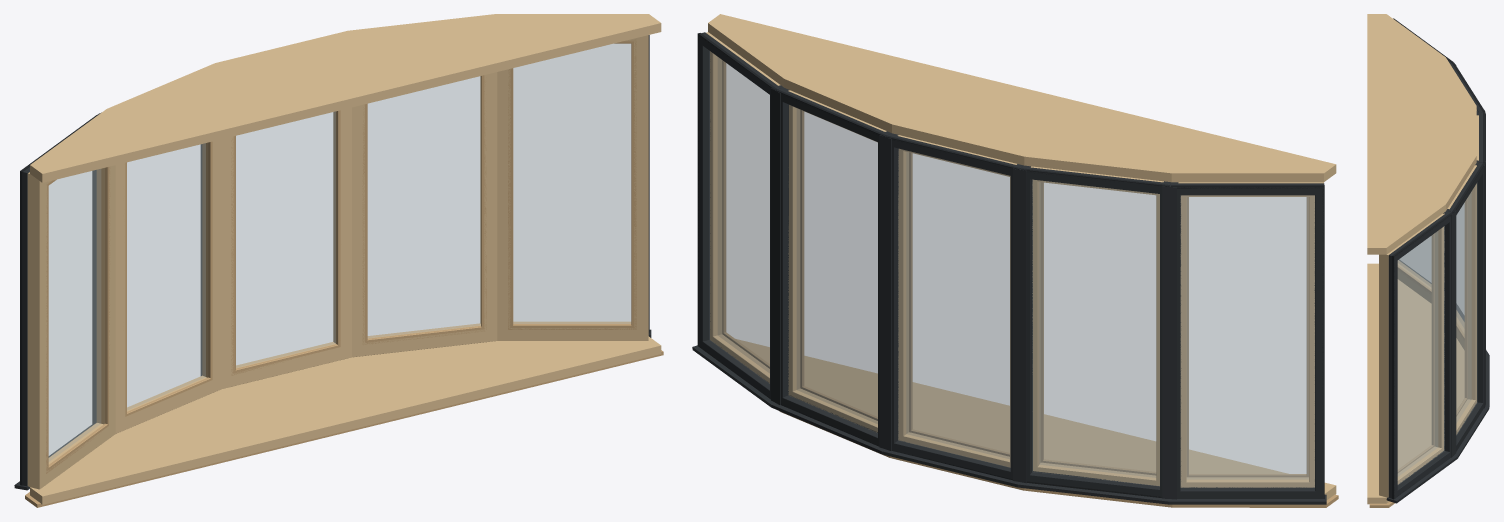
Rendered from combination-bow.glb.
3 renders of one model, left to right at view 1: azimuth 30°, elevation 25°; view 2: azimuth 150°, elevation 25°; view 3: azimuth 270°, elevation 25°, orthographic. The views are drawn at different scales.
Parts seen in each view (by area): view 1: head_board, seat_board, panel_5_glass, panel_4_glass, panel_3_glass, panel_2_glass, panel_1_glass, panel_1_liner_int, panel_5_liner_int, panel_4_liner_int, panel_3_liner_int, panel_2_liner_int (+8 smaller); view 2: panel_1_glass, panel_2_glass, head_board, panel_3_glass, panel_4_glass, panel_5_glass, seat_board, panel_1_clad_ext, panel_3_clad_ext, panel_5_clad_ext, panel_4_clad_ext, panel_2_clad_ext (+21 smaller); view 3: head_board, panel_5_glass, seat_board, panel_5_liner_int, panel_5_clad_ext, panel_4_glass, panel_4_liner_int, panel_4_clad_ext, mullion_4, panel_5_stop_int, panel_2_glass, panel_5_clad_nose (+14 smaller).
Part boxes in pixels (x1,y1,x2,y2): head_board: [30, 14, 661, 182]; seat_board: [30, 336, 661, 504]; panel_5_glass: [513, 43, 631, 323]; panel_4_glass: [367, 76, 480, 337]; panel_3_glass: [236, 111, 335, 367]; panel_2_glass: [127, 143, 205, 409]; panel_1_glass: [48, 169, 100, 461]; panel_1_liner_int: [27, 165, 115, 489]; panel_5_liner_int: [497, 35, 648, 340]; panel_4_liner_int: [352, 72, 497, 357]; panel_3_liner_int: [222, 107, 351, 388]; panel_2_liner_int: [115, 139, 221, 433]; panel_1_glass: [1181, 195, 1314, 487]; panel_2_glass: [1032, 180, 1159, 485]; head_board: [708, 14, 1336, 182]; panel_3_glass: [898, 149, 1010, 467]; panel_4_glass: [788, 104, 877, 432]; panel_5_glass: [709, 51, 769, 383]; seat_board: [736, 339, 1336, 499]; panel_1_clad_ext: [1171, 183, 1324, 498]; panel_3_clad_ext: [888, 134, 1022, 479]; panel_5_clad_ext: [698, 32, 781, 399]; panel_4_clad_ext: [779, 88, 889, 446]; panel_2_clad_ext: [1022, 166, 1170, 497]; head_board: [1367, 14, 1476, 254]; panel_5_glass: [1397, 226, 1444, 484]; seat_board: [1367, 263, 1464, 504]; panel_5_liner_int: [1379, 213, 1444, 497]; panel_5_clad_ext: [1388, 211, 1451, 498]; panel_4_glass: [1456, 183, 1477, 434]; panel_4_liner_int: [1447, 165, 1476, 434]; panel_4_clad_ext: [1448, 163, 1483, 451]; mullion_4: [1443, 209, 1456, 457]; panel_5_stop_int: [1397, 233, 1434, 472]; panel_2_glass: [1456, 203, 1464, 321]; panel_5_clad_nose: [1392, 212, 1453, 499].
Size of the model in its own units: 2.98 by 1.49 by 0.6382.
